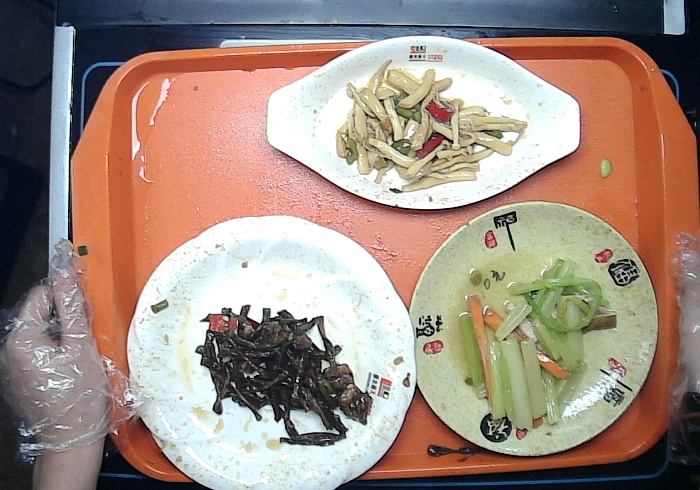NLDX-Bai_Zhe_Yuan_Pan: (124, 211, 419, 490)
NLDX-Fu_Zi_Yuan_Pan: (405, 198, 662, 456)
NLDX-Yu_Pan: (261, 33, 583, 213)
